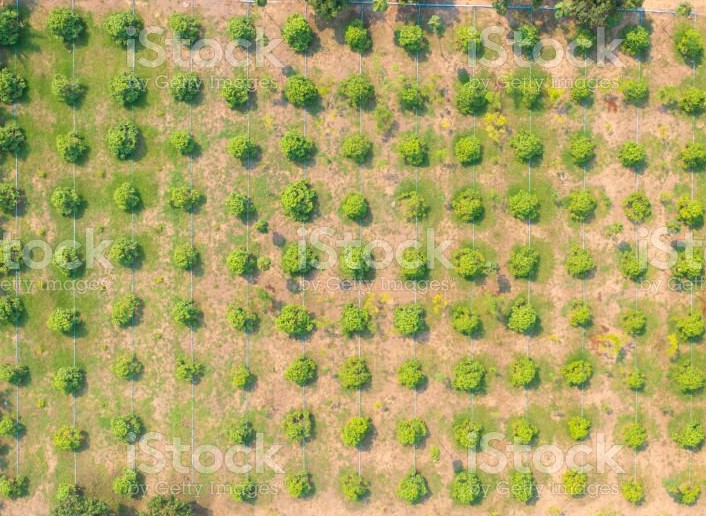TREE: (278, 178, 314, 222), (333, 244, 371, 285), (449, 355, 487, 394), (280, 74, 319, 109), (106, 121, 141, 159), (278, 302, 313, 340), (390, 304, 428, 339), (335, 75, 374, 109), (562, 186, 597, 223), (47, 9, 85, 43), (281, 403, 315, 441), (282, 13, 314, 53), (110, 73, 146, 108), (504, 300, 539, 335), (50, 72, 84, 108), (451, 249, 488, 281), (505, 247, 539, 281), (559, 246, 594, 279), (50, 186, 83, 220), (338, 357, 372, 390), (394, 135, 427, 169), (449, 188, 485, 219), (511, 127, 541, 164), (508, 24, 541, 57), (110, 12, 142, 46), (620, 190, 652, 224), (342, 410, 372, 446), (393, 23, 426, 55), (282, 243, 316, 274), (507, 190, 541, 221), (338, 130, 369, 164), (618, 25, 649, 59), (506, 466, 536, 501), (395, 467, 427, 499), (453, 470, 481, 506), (282, 131, 313, 163), (282, 355, 315, 385), (394, 415, 424, 448), (675, 363, 705, 396), (674, 307, 704, 340), (43, 307, 77, 336), (508, 354, 537, 388), (457, 78, 485, 113), (346, 20, 372, 57), (53, 365, 85, 395), (170, 16, 202, 46), (170, 74, 203, 103), (226, 131, 257, 161), (672, 251, 703, 281), (339, 191, 370, 221), (340, 303, 369, 335), (676, 194, 705, 226), (221, 78, 251, 108), (453, 136, 483, 166), (396, 358, 424, 390), (171, 299, 205, 325), (452, 306, 481, 336), (675, 419, 703, 450), (395, 190, 428, 216), (680, 141, 706, 174), (680, 87, 706, 120), (1, 71, 25, 106), (227, 18, 255, 48), (56, 425, 87, 452), (116, 294, 142, 326), (680, 27, 706, 59), (224, 248, 255, 274), (340, 474, 368, 502), (511, 418, 539, 446), (560, 468, 588, 496), (115, 239, 144, 266), (617, 142, 646, 169), (453, 417, 479, 447), (621, 251, 647, 281), (567, 139, 597, 165), (112, 469, 139, 497), (58, 132, 84, 161), (456, 26, 482, 55), (618, 78, 647, 104), (402, 247, 424, 281), (516, 76, 540, 107), (1, 10, 21, 47), (1, 293, 22, 327), (226, 192, 252, 219), (115, 416, 144, 440), (171, 187, 200, 211), (172, 243, 201, 267), (1, 236, 19, 274), (400, 86, 425, 113), (58, 250, 82, 278), (562, 360, 590, 384), (574, 27, 598, 55), (1, 125, 23, 155), (226, 307, 252, 332), (229, 418, 254, 444), (673, 483, 701, 506), (625, 421, 648, 449), (115, 356, 142, 379), (288, 471, 311, 498), (569, 77, 592, 104), (568, 415, 590, 443), (116, 186, 141, 210), (1, 183, 21, 212), (622, 478, 645, 503), (622, 313, 647, 335), (56, 481, 82, 502), (173, 132, 195, 155), (571, 305, 592, 329), (231, 363, 251, 387), (625, 370, 643, 392), (233, 483, 255, 499)
